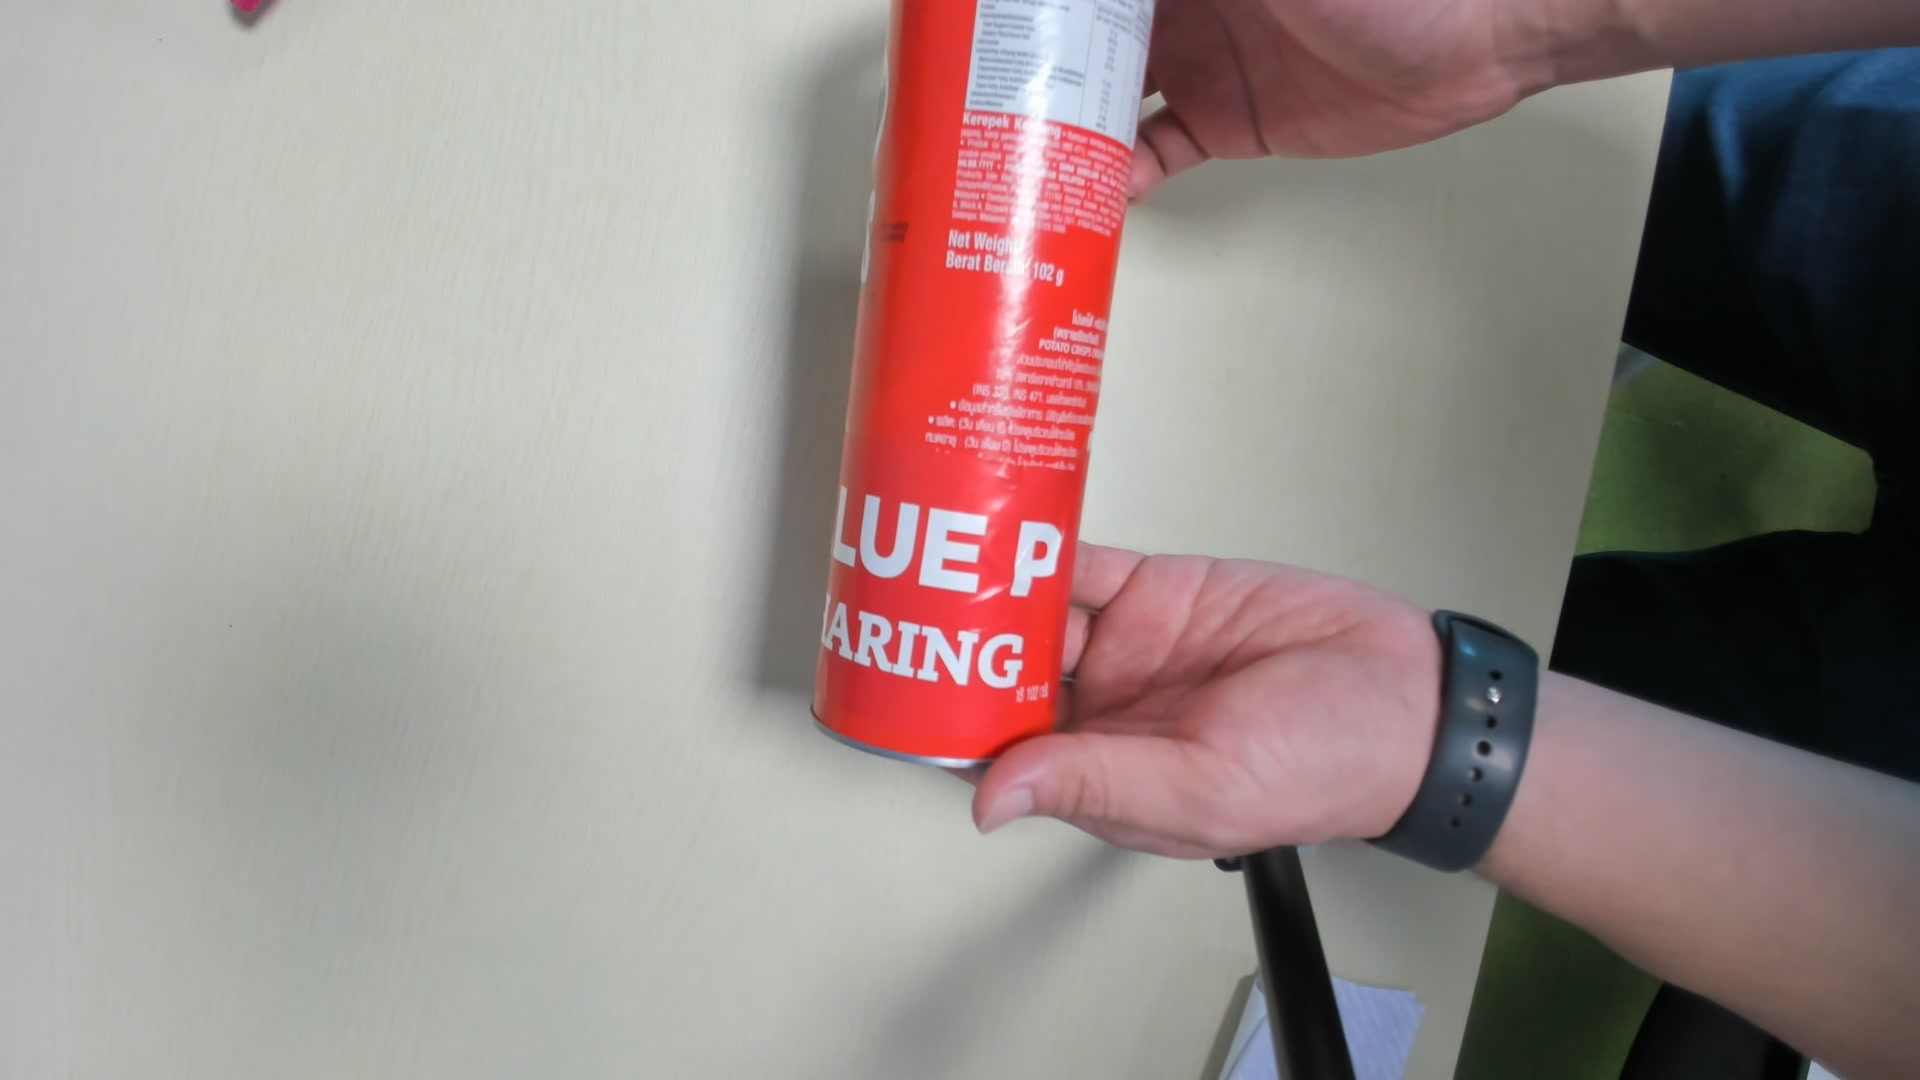PotatoChipsKeropok_100-199g_NonHalal_NonHealthy: (814, 1, 1168, 770)
